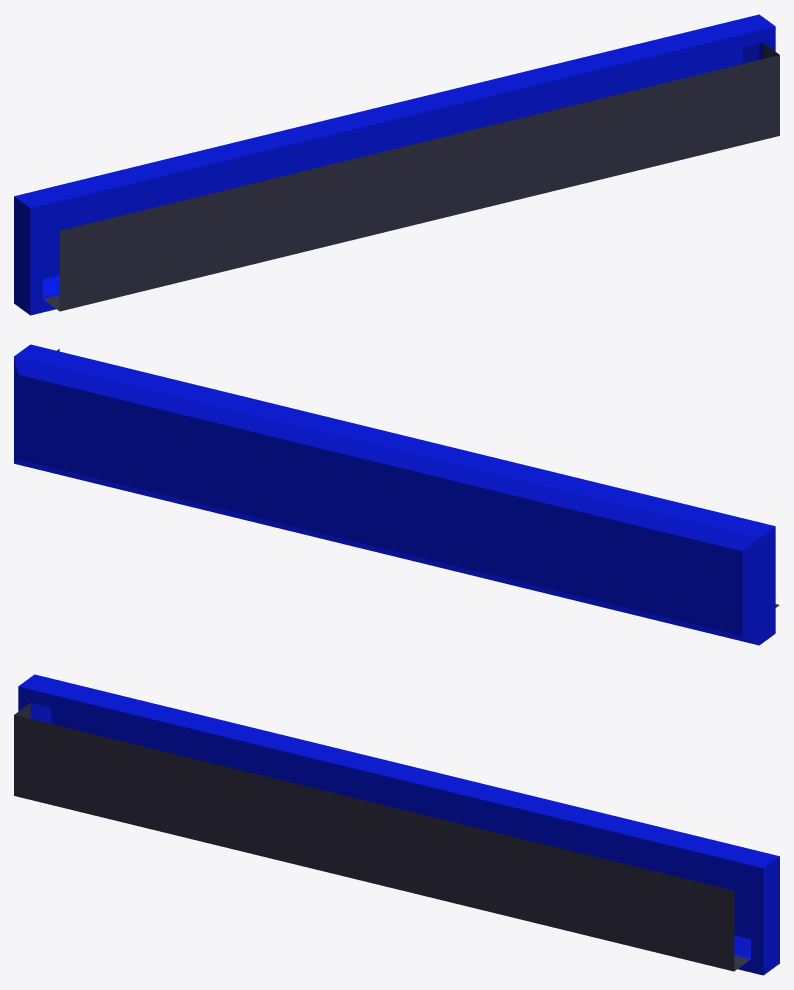
The model's file is magnet2.fbx.
3 renders of one model, top to bottom at view 1: azimuth 30°, elevation 25°; view 2: azimuth 150°, elevation 25°; view 3: azimuth 330°, elevation 25°, orthographic.
Parts seen in each view (by area): view 1: Cube.017; view 2: Cube.017; view 3: Cube.017.
Part boxes in pixels (x1,y1,x2,y2): Cube.017: (14, 14, 779, 315); Cube.017: (14, 344, 779, 645); Cube.017: (14, 674, 779, 975).
Size of the model in its own units: 3392 by 466 by 310.
